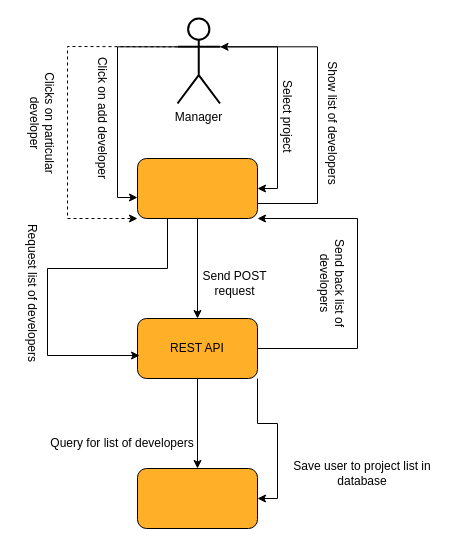
Image size: 454x546. Some labels were removed from this diagram. Each missing label, with the centre of its shape:
Database: the point at 197,498
Frontend: the point at 197,188
